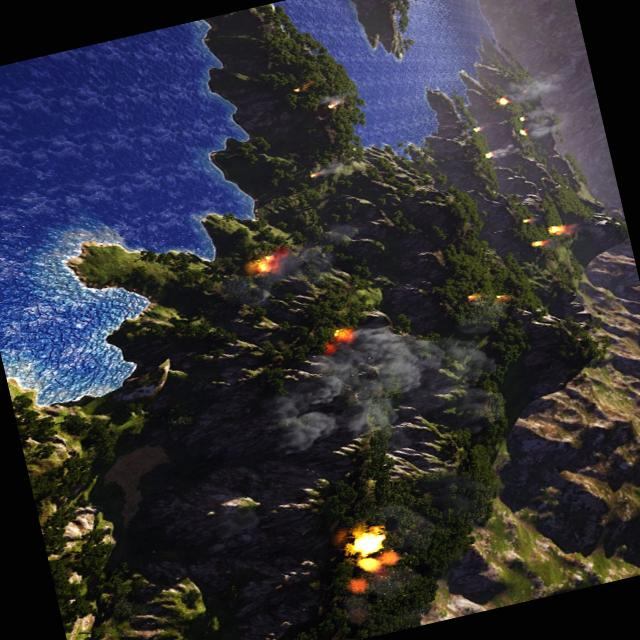fire: (348, 526, 389, 558), (318, 326, 357, 355), (247, 252, 281, 276), (546, 224, 565, 237), (490, 292, 506, 304), (530, 238, 549, 248), (463, 292, 480, 303), (495, 96, 508, 106), (516, 128, 528, 138), (518, 217, 532, 225), (471, 125, 482, 134), (290, 86, 301, 94), (516, 115, 526, 123), (482, 152, 493, 158), (307, 172, 316, 178), (326, 104, 333, 109)
smoke: (252, 302, 506, 464), (211, 218, 377, 323), (338, 548, 408, 596), (502, 67, 566, 106), (522, 118, 566, 142), (564, 216, 599, 242), (311, 158, 347, 180), (522, 104, 560, 124), (313, 92, 349, 111), (483, 143, 519, 161)
